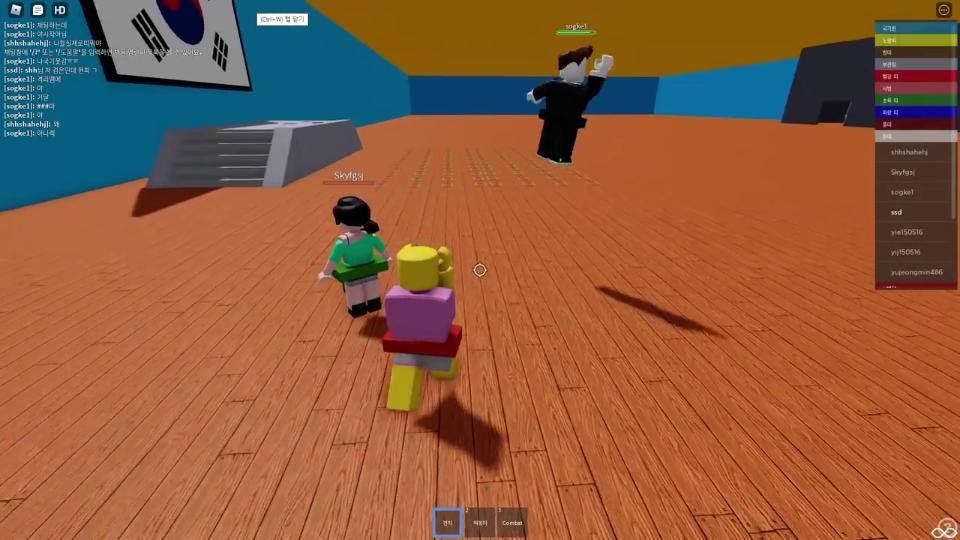Character: (381, 244, 464, 411), (526, 43, 614, 166), (318, 195, 394, 318)
